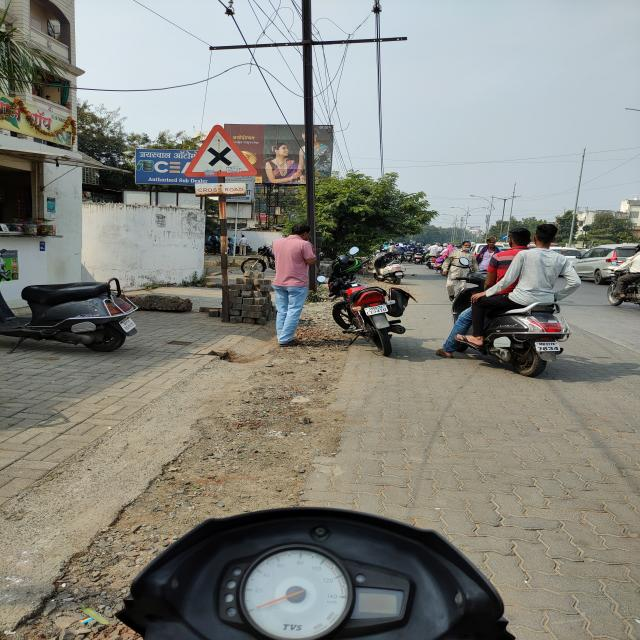CROSS_ROAD: (181, 123, 258, 180)
